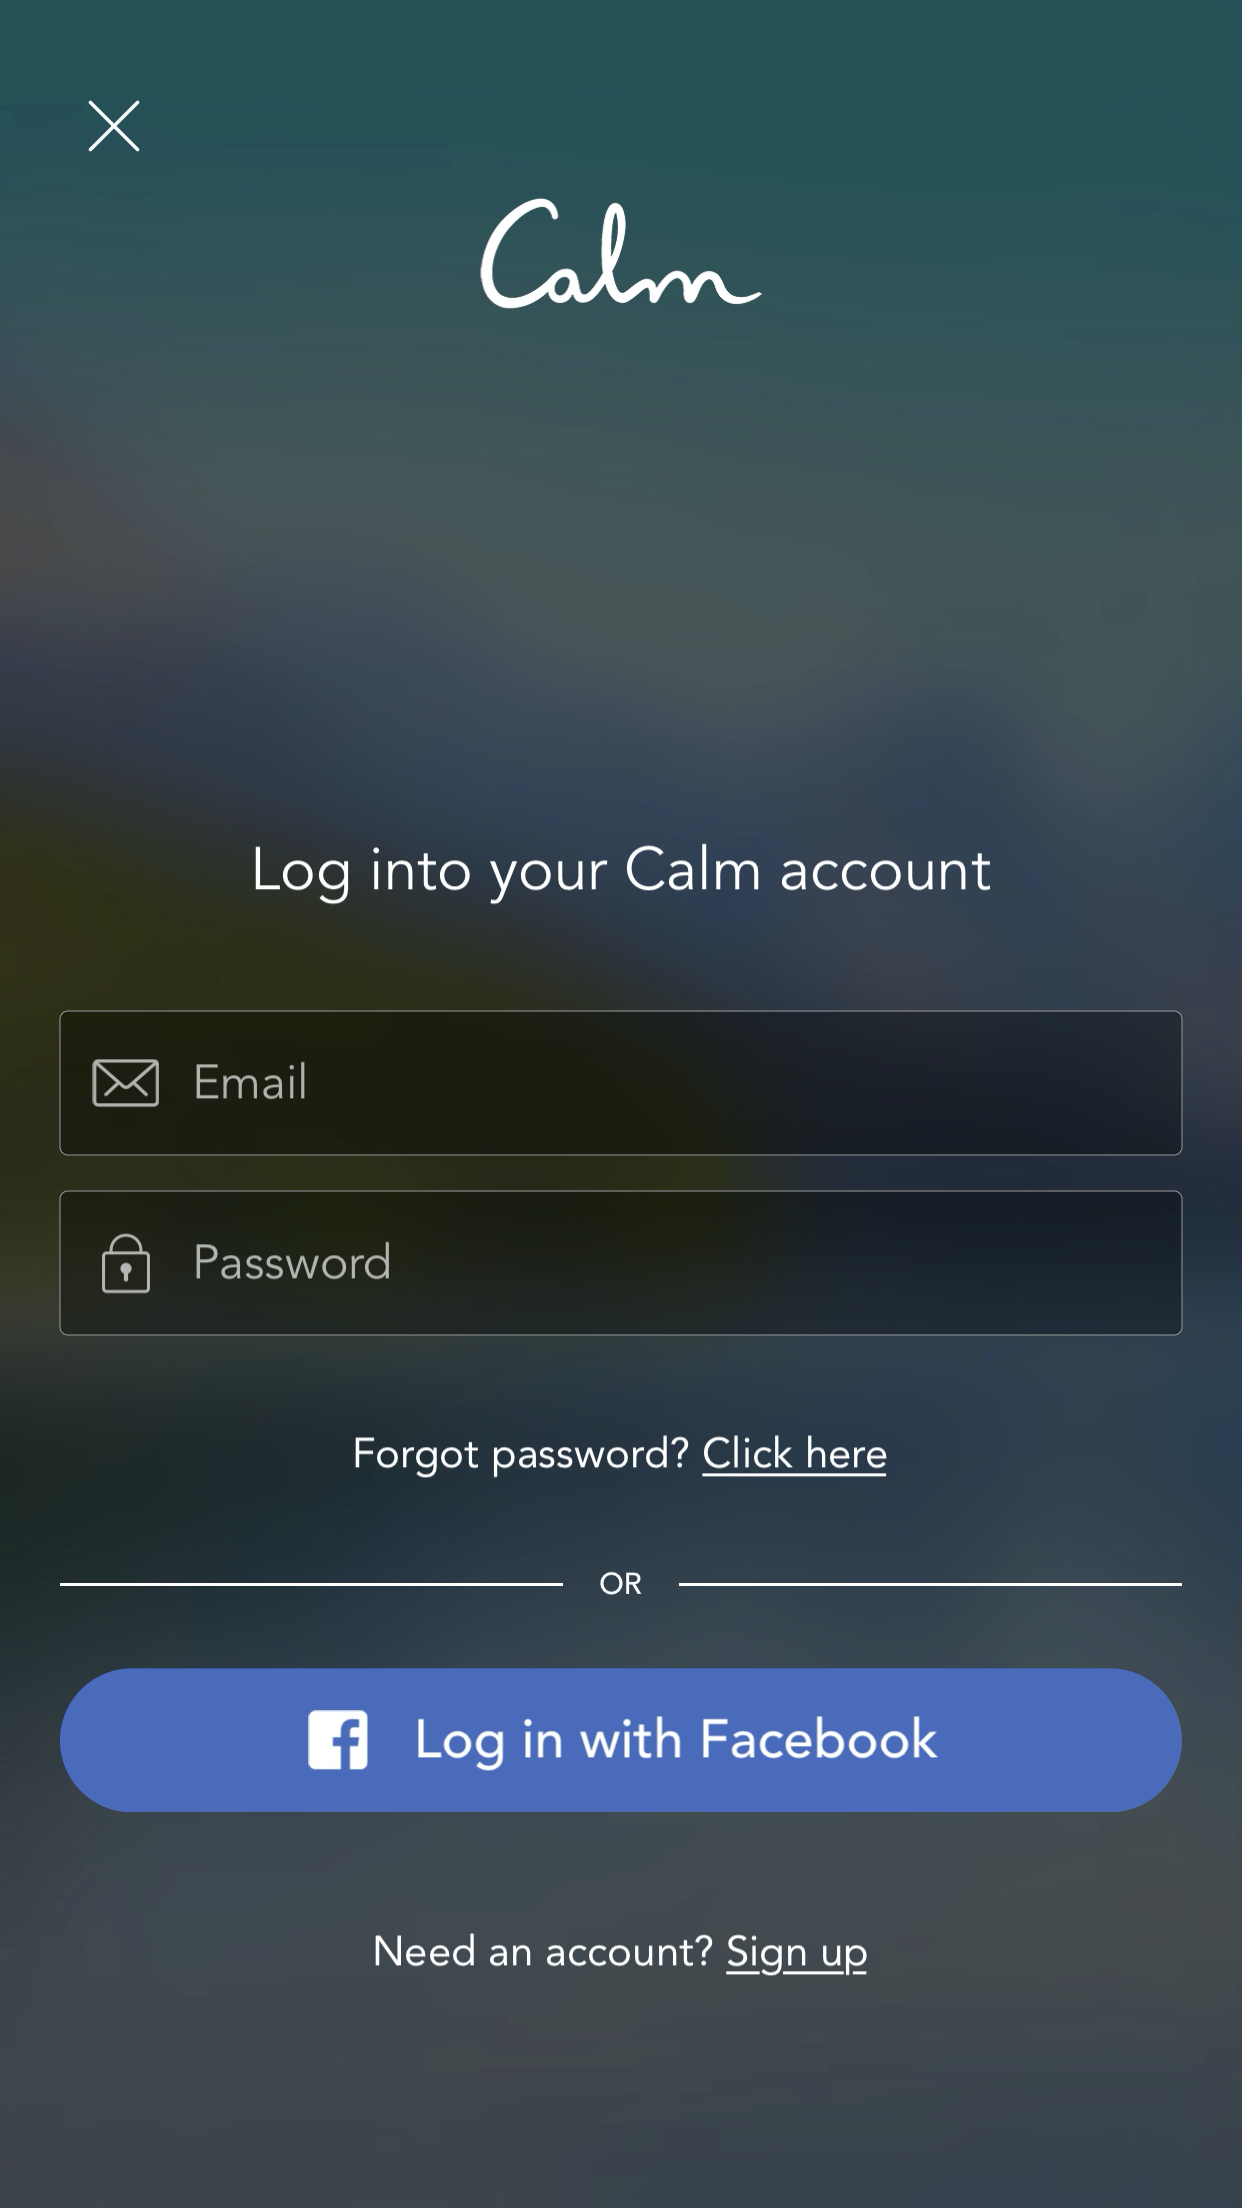EditText: (59, 1010, 1183, 1157), (59, 1190, 1183, 1338)
Icon: (93, 1059, 161, 1109), (102, 1233, 152, 1295), (88, 100, 143, 155)
Image: (479, 197, 763, 311)
Text: (255, 842, 992, 905), (353, 1435, 889, 1480), (375, 1932, 867, 1977), (196, 1240, 390, 1281), (196, 1062, 306, 1101), (601, 1571, 643, 1597)
TextButton: (61, 1667, 1183, 1814)
